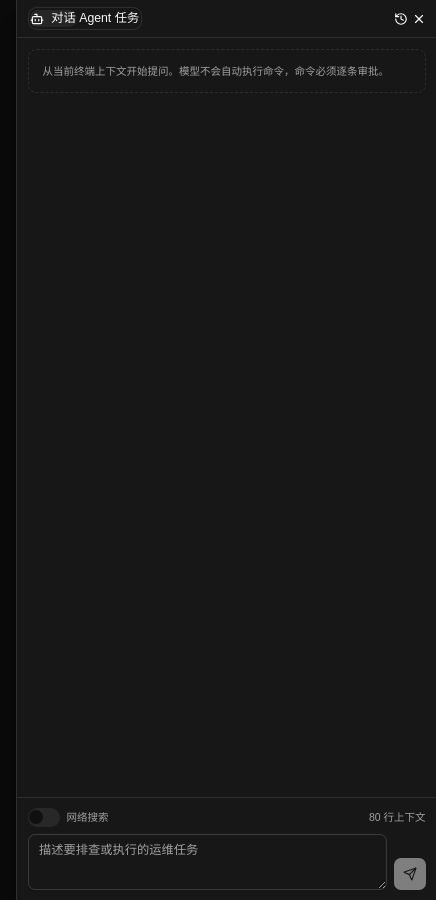
AITerminalPanel › ignores a stale panel load after switching sessions
Click the button named "对话历史".
click(401, 18)  # box [394, 12, 408, 26]
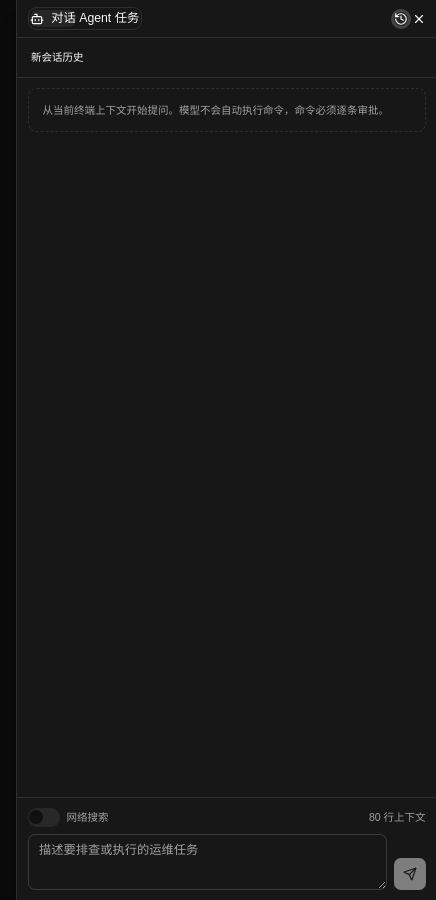
Check: the button "新会话历史" is shown, box [24, 45, 429, 70]
